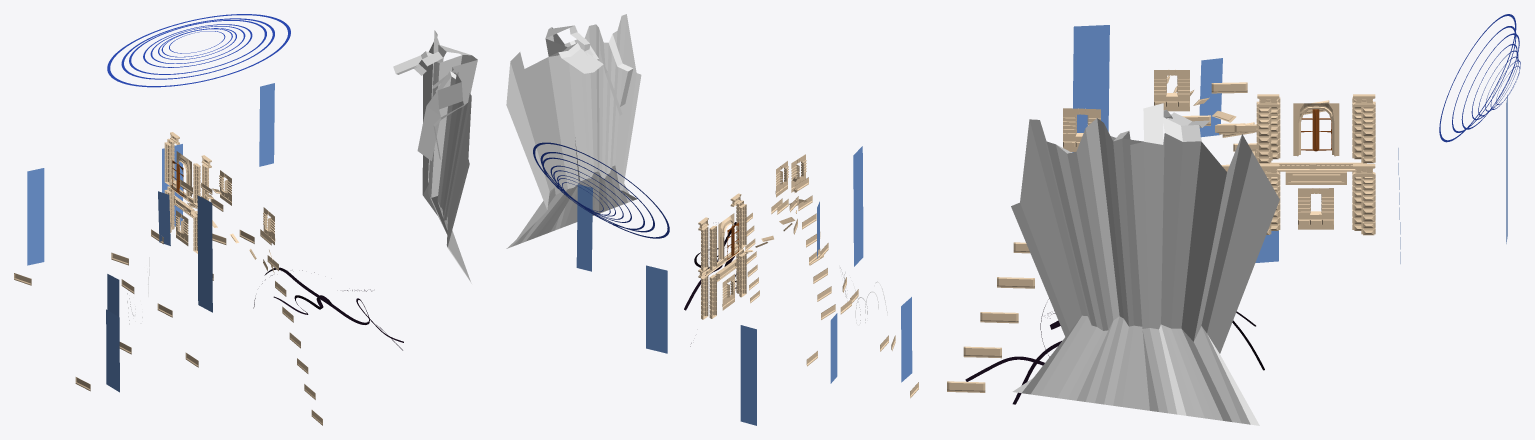
3 renders of one model, left to right at view 1: azimuth 30°, elevation 25°; view 2: azimuth 150°, elevation 25°; view 3: azimuth 270°, elevation 25°, orthographic. The views are drawn at different scales.
Visible parts, largest first — view 1: Plane, Top Layer Circles, Plane.006, Plane.001, Plane.004, Plane.007, Bottom Layer Circles, Wall Part 1, Column Part 1.001, Column Part 1, Plane.005, Plane.003 (+3 smaller); view 2: Plane, Plane.003, Plane.006, Top Layer Circles, Column Part 1.001, Plane.004, Plane.001, Column Part 1, Plane.007, Wall Part 1, Plane.002, Bottom Layer Circles (+2 smaller); view 3: Plane, Plane.001, Column Part 1.001, Wall Part 1, Column Part 1, Plane.005, Window #3, Window #2, Top Layer Circles, Window Outer Rect, Column Part 2, Window #1 (+4 smaller).
Boxes of the visible parts, <box> form: Plane: <box>393,30,477,283</box>; Top Layer Circles: <box>107,14,290,87</box>; Plane.006: <box>27,168,44,265</box>; Plane.001: <box>197,195,212,312</box>; Plane.004: <box>259,83,274,166</box>; Plane.007: <box>106,309,119,392</box>; Bottom Layer Circles: <box>150,26,245,63</box>; Wall Part 1: <box>260,229,322,425</box>; Column Part 1.001: <box>164,138,174,232</box>; Column Part 1: <box>193,163,208,253</box>; Plane.005: <box>158,191,170,245</box>; Plane.003: <box>162,144,182,226</box>; Plane: <box>506,14,641,248</box>; Plane.003: <box>646,265,667,353</box>; Plane.006: <box>740,325,756,425</box>; Top Layer Circles: <box>533,142,669,238</box>; Column Part 1.001: <box>701,225,716,319</box>; Plane.004: <box>576,184,592,271</box>; Plane.001: <box>853,146,863,266</box>; Column Part 1: <box>736,200,746,297</box>; Plane.007: <box>901,297,912,382</box>; Wall Part 1: <box>794,177,835,319</box>; Plane.002: <box>830,313,837,383</box>; Bottom Layer Circles: <box>553,170,623,219</box>; Plane: <box>1011,103,1279,425</box>; Plane.001: <box>1072,25,1109,152</box>; Column Part 1.001: <box>1352,97,1375,235</box>; Wall Part 1: <box>947,242,1034,392</box>; Column Part 1: <box>1256,97,1280,234</box>; Plane.005: <box>1199,58,1222,137</box>; Window #3: <box>1298,188,1333,229</box>; Window #2: <box>1154,69,1189,111</box>; Top Layer Circles: <box>1439,14,1519,142</box>; Window Outer Rect: <box>1293,103,1339,156</box>; Column Part 2: <box>1257,94,1375,176</box>; Window #1: <box>1063,108,1100,151</box>.
Bounding box in the file's own units: 3.82 × 2.59 × 3.15.
